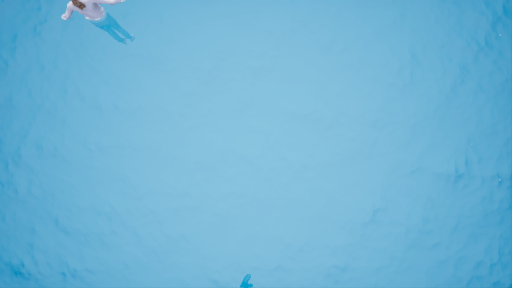person: (62, 1, 142, 50)
